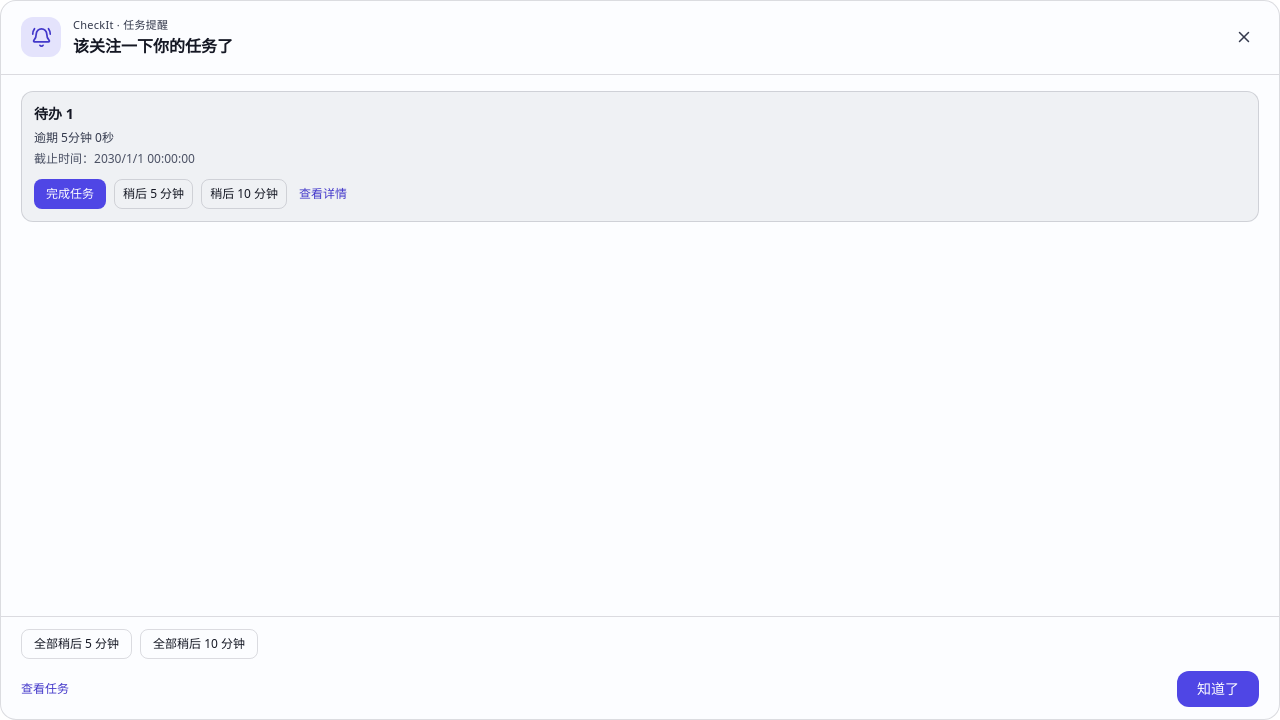
Test: 居中提醒窗口 › 确认失败时保留提醒并展示错误
This screenshot has width=1280, height=720.
Expected: the heading "待办 1" is shown, [34,104,74,122]
Click the button "知道了" at coordinates (1218, 689), box [1177,671,1259,707]
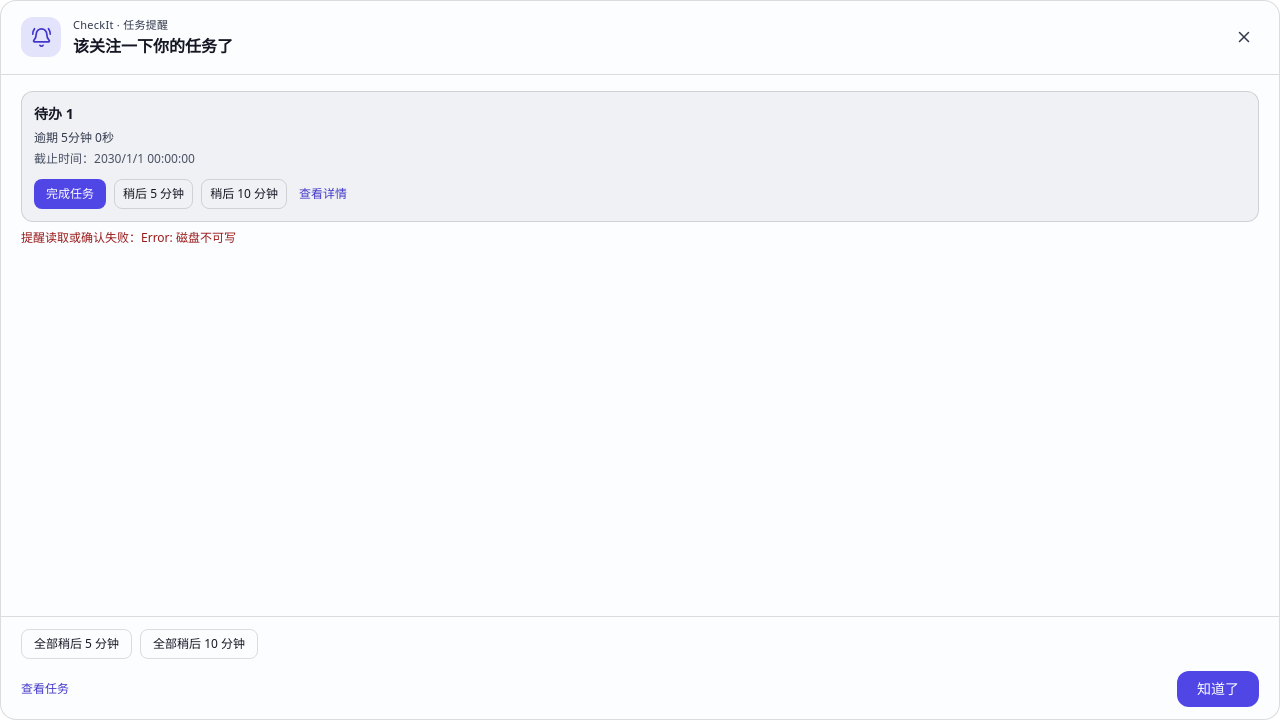
Expected: the heading "待办 1" is shown, [34,104,74,122]
Now the message "提醒读取或确认失败：Error: 磁盘不可写" is shown, box [21,229,236,246]
